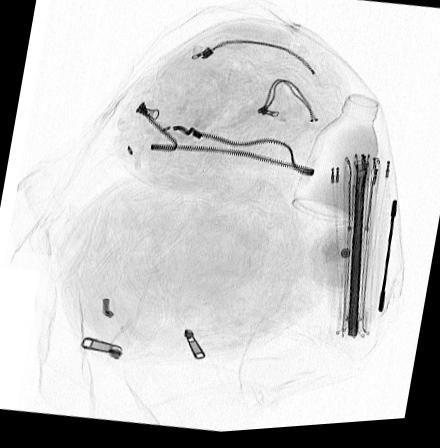Wrench: (376, 202, 399, 317)
